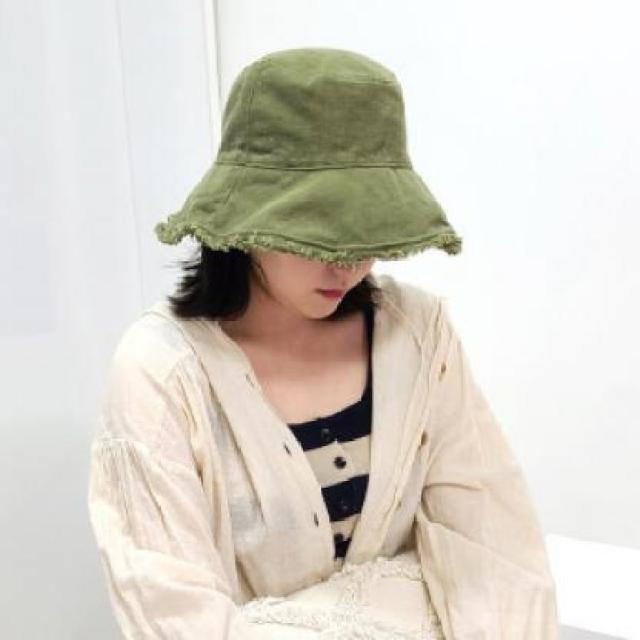hat: (154, 48, 461, 264)
